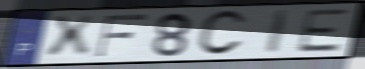8: (152, 11, 193, 58)
C: (194, 8, 249, 58)
E: (294, 8, 351, 55)
F: (93, 13, 150, 59)
I: (263, 9, 293, 55)
X: (45, 14, 98, 61)
